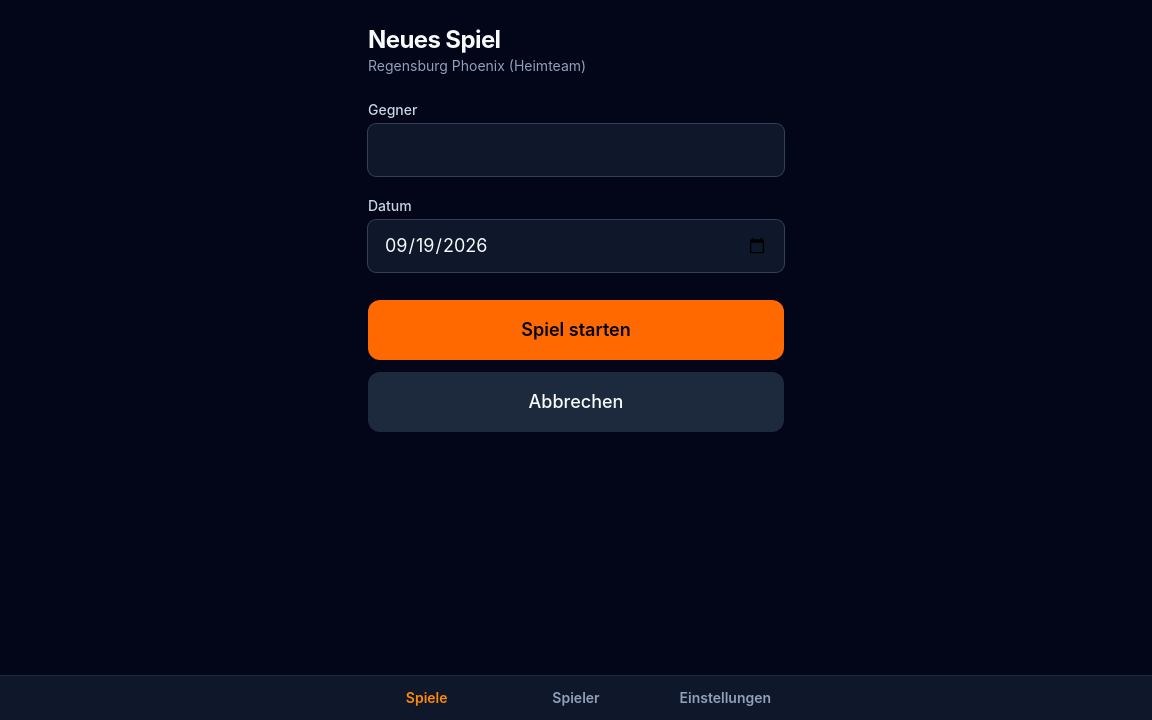
Test: NewGamePage › zeigt einen Fehler bei fehlendem Gegnernamen und speichert nichts
The image size is (1152, 720).
Click the button "Spiel starten" at coordinates (576, 330), box [368,300,784,360]
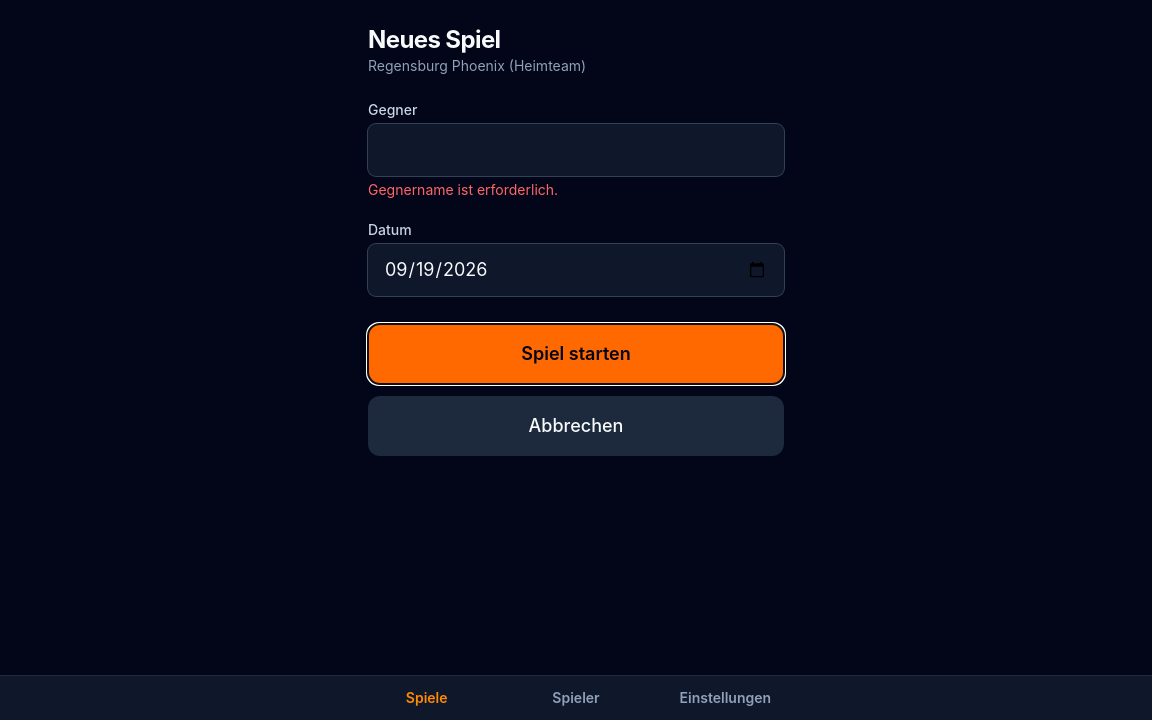
Check: the text "Gegnername ist erforderlich." is shown, box [368,181,558,198]
